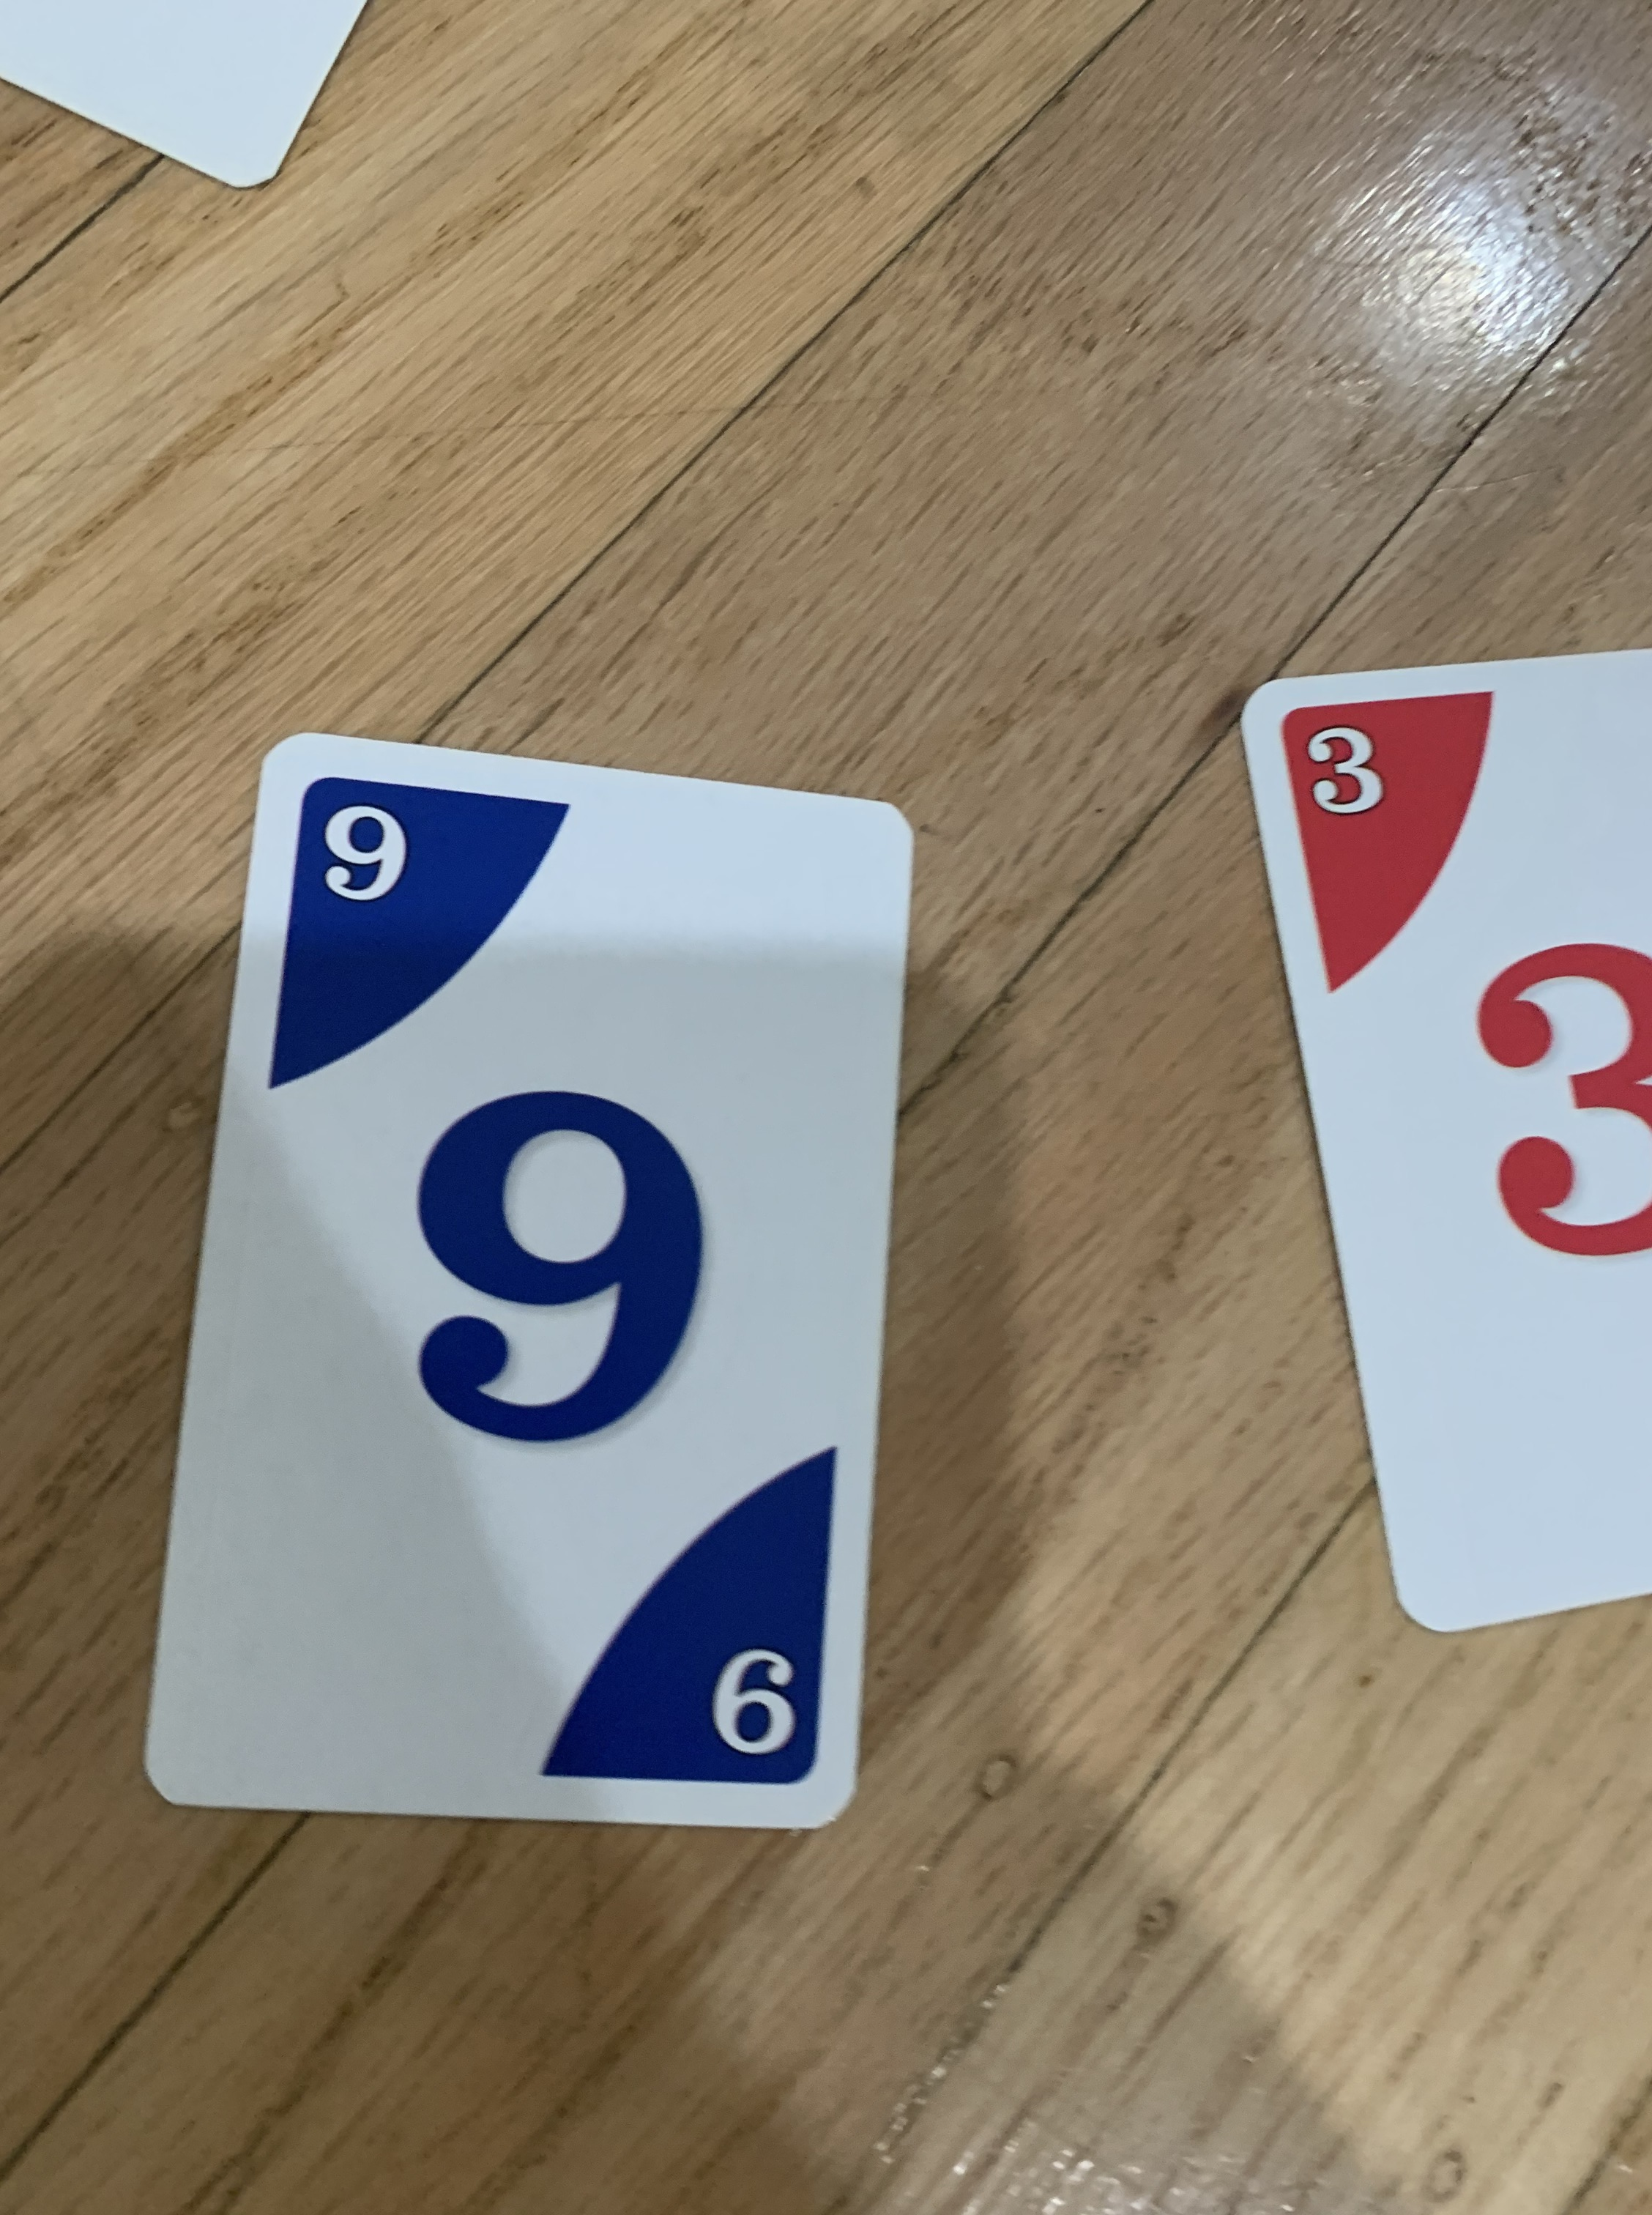nine: (139, 717, 915, 1837)
